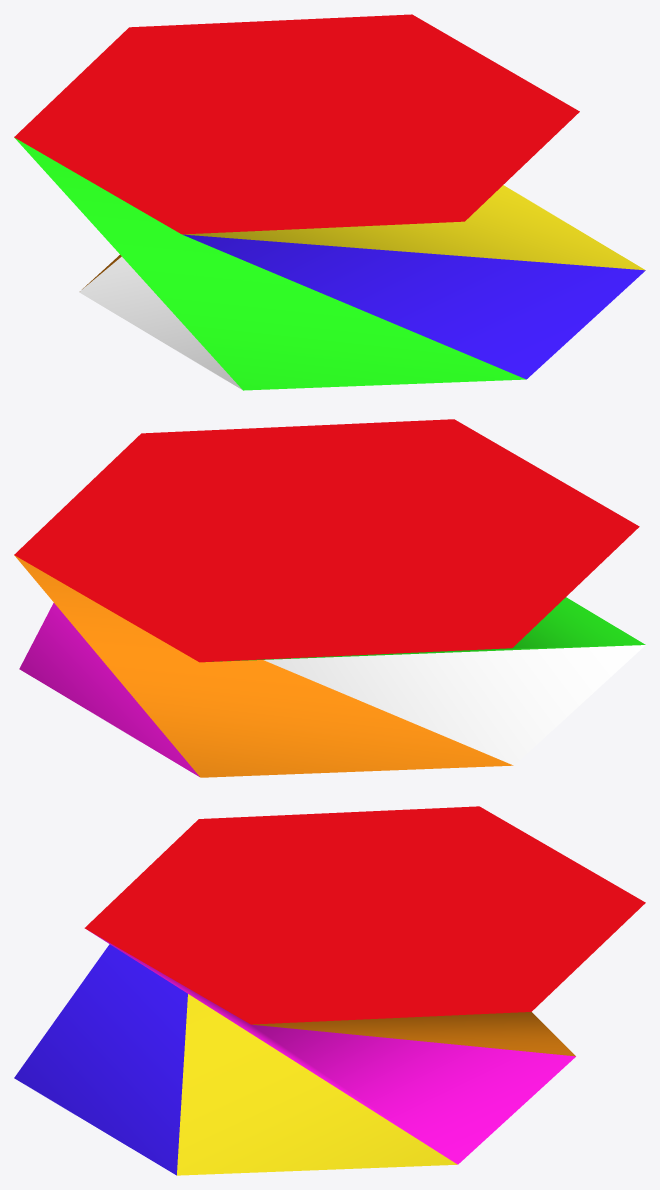
File: polygon.dae
The picture shows the model from 3 angles, top to bottom: view 1: azimuth 30°, elevation 25°; view 2: azimuth 150°, elevation 25°; view 3: azimuth 270°, elevation 25°; orthographic projection. The views are drawn at different scales.
Visible parts, largest first — view 1: SketchUp (×5); view 2: SketchUp (×5); view 3: SketchUp (×5).
Boxes of the visible parts, x1,y1,x2,y2 form: SketchUp (×5): [14, 14, 645, 390]; SketchUp (×5): [14, 419, 645, 777]; SketchUp (×5): [14, 806, 645, 1175].
Bounding box in the file's own units: 98.76 × 114 × 27.23.
